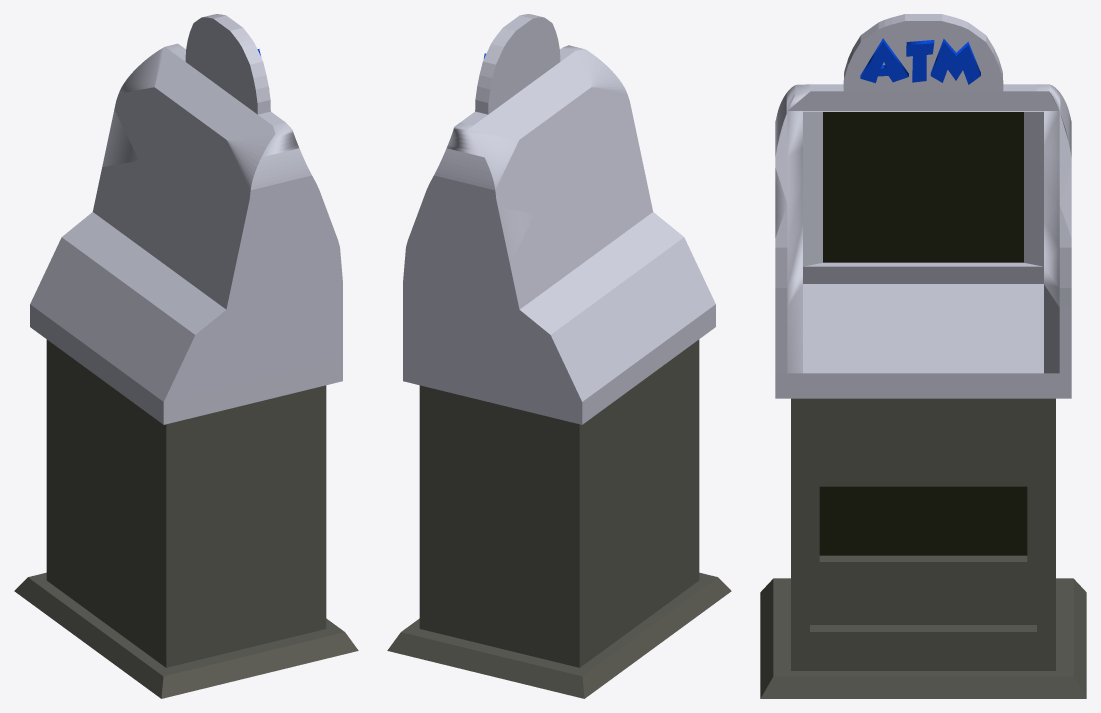
File: AtmFinal.fbx
3 views of the same model, side by side, from view 1: azimuth 30°, elevation 25°; view 2: azimuth 150°, elevation 25°; view 3: azimuth 270°, elevation 25° (orthographic). The views are drawn at different scales.
Parts seen in each view (by area): view 1: Atm; view 2: Atm; view 3: Atm, AtmText.
Boxes of the visible parts, left/top/right/bottom form: Atm: left=14, top=14, right=358, bottom=698; Atm: left=387, top=14, right=731, bottom=698; Atm: left=760, top=14, right=1086, bottom=698; AtmText: left=860, top=38, right=980, bottom=84.
Bounding box in the file's own units: 127 × 360 × 164.
Materials: 2 (1 with a texture image).
